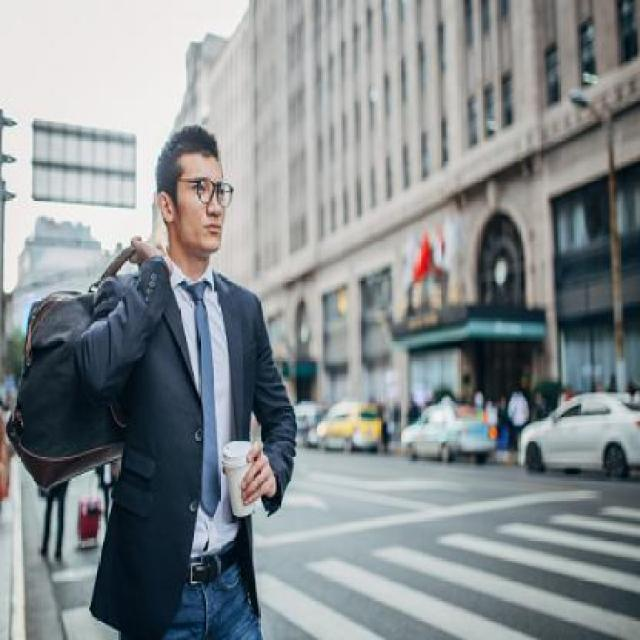sem_oculos: (153, 168, 244, 210)
